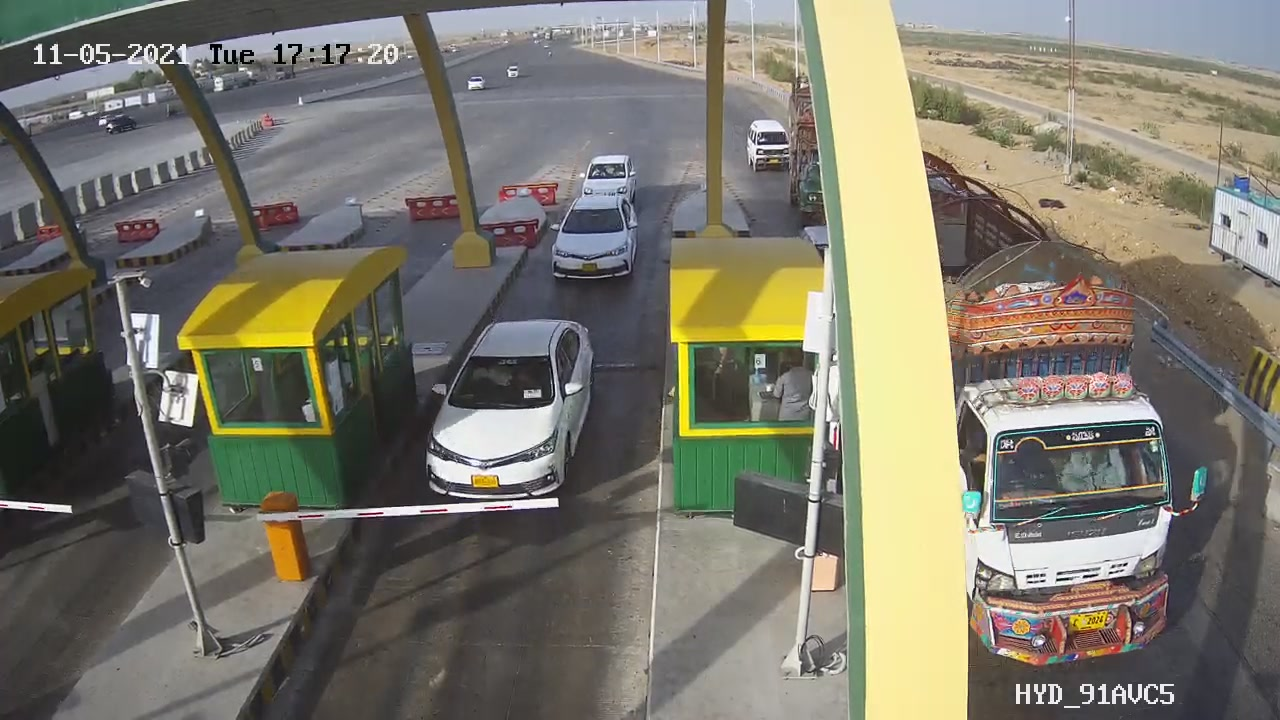F1: (412, 307, 609, 520), (537, 188, 656, 294)
